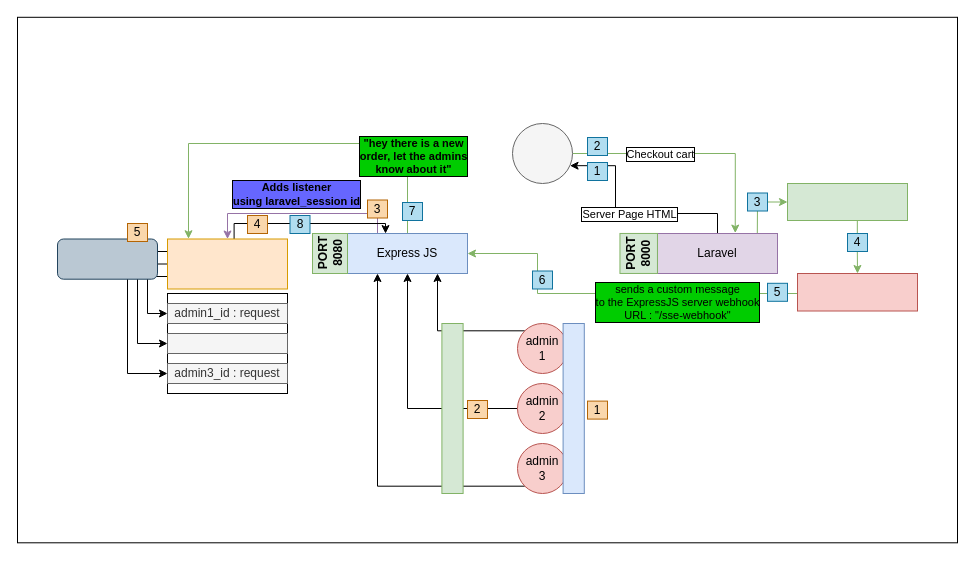
This 975x561 diagram has some shape labels left out. The box of each missing label's shape, as (x1, y1, x2, y2) in pixels:
a Laravel Event gets executed.: (796, 272, 918, 311)
admin2_id : request: (166, 332, 288, 354)
Client(s) Instance: (512, 122, 572, 184)
initiate EventSource objects: (441, 322, 463, 494)
Logged in as "admin": (562, 322, 584, 494)
on Model add "Cart": fire a "custom event": (786, 182, 908, 220)
Pool of listeners (SSE_Manager): (166, 238, 288, 289)
send SSE(e): (56, 238, 158, 279)
